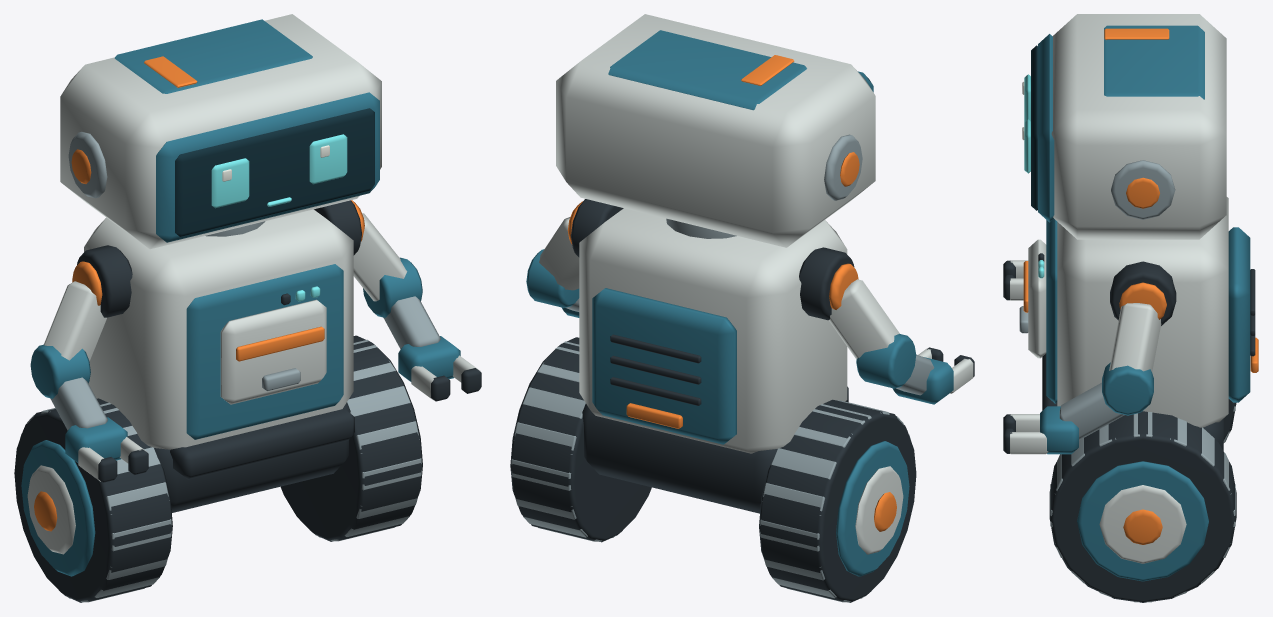
Rendered from gorden.glb.
3 views of the same model, side by side, from view 1: azimuth 30°, elevation 25°; view 2: azimuth 150°, elevation 25°; view 3: azimuth 270°, elevation 25° (orthographic). The views are drawn at different scales.
Visible parts, largest first — view 1: Gorden torso shell, Gorden head shell, Gorden front blue panel, Gorden face screen, Gorden left wheel, Gorden right wheel, Gorden top blue panel, Gorden chest cartridge, Gorden face surround, Gorden lower bumper, Gorden underbody, Gorden right wheel rim (+21 smaller); view 2: Gorden head shell, Gorden torso shell, Gorden rear battery, Gorden right wheel, Gorden left wheel, Gorden underbody, Gorden top blue panel, Gorden right wheel treads, Gorden right wheel rim, Gorden left wheel treads, Gorden right upper arm, Gorden right hub ring (+16 smaller); view 3: Gorden head shell, Gorden torso shell, Gorden left wheel, Gorden left wheel rim, Gorden top blue panel, Gorden left hub ring, Gorden rear battery, Gorden face surround, Gorden left upper arm, Gorden left head hinge, Gorden left elbow, Gorden front blue panel (+13 smaller).
Part boxes in pixels (x1,y1,x2,y2): Gorden torso shell: [84, 209, 353, 449]; Gorden head shell: [60, 14, 381, 249]; Gorden front blue panel: [186, 264, 343, 439]; Gorden face screen: [175, 108, 374, 236]; Gorden left wheel: [280, 335, 422, 541]; Gorden right wheel: [14, 398, 172, 602]; Gorden top blue panel: [114, 19, 312, 93]; Gorden chest cartridge: [220, 299, 326, 404]; Gorden face surround: [156, 92, 379, 242]; Gorden lower bumper: [170, 408, 354, 479]; Gorden underbody: [154, 402, 350, 512]; Gorden right wheel rim: [21, 440, 95, 576]; Gorden head shell: [556, 14, 875, 247]; Gorden torso shell: [579, 208, 847, 453]; Gorden rear battery: [592, 288, 736, 444]; Gorden right wheel: [759, 399, 916, 602]; Gorden left wheel: [510, 337, 651, 542]; Gorden underbody: [582, 403, 777, 513]; Gorden top blue panel: [608, 30, 806, 110]; Gorden right wheel treads: [760, 400, 910, 602]; Gorden right wheel rim: [836, 441, 909, 576]; Gorden left wheel treads: [511, 341, 615, 541]; Gorden right upper arm: [829, 279, 899, 359]; Gorden right hub ring: [855, 466, 903, 554]; Gorden head shell: [1051, 14, 1226, 239]; Gorden torso shell: [1057, 197, 1228, 427]; Gorden left wheel: [1049, 411, 1236, 602]; Gorden left wheel rim: [1077, 461, 1208, 581]; Gorden top blue panel: [1104, 25, 1204, 99]; Gorden left hub ring: [1099, 485, 1186, 563]; Gorden rear battery: [1228, 227, 1250, 402]; Gorden face surround: [1038, 34, 1054, 222]; Gorden left upper arm: [1109, 303, 1161, 372]; Gorden left head hinge: [1111, 160, 1175, 219]; Gorden left elbow: [1102, 362, 1153, 415]; Gorden front blue panel: [1046, 219, 1057, 403].
Size of the model in its own units: 0.806 by 1.01 by 0.4915.
